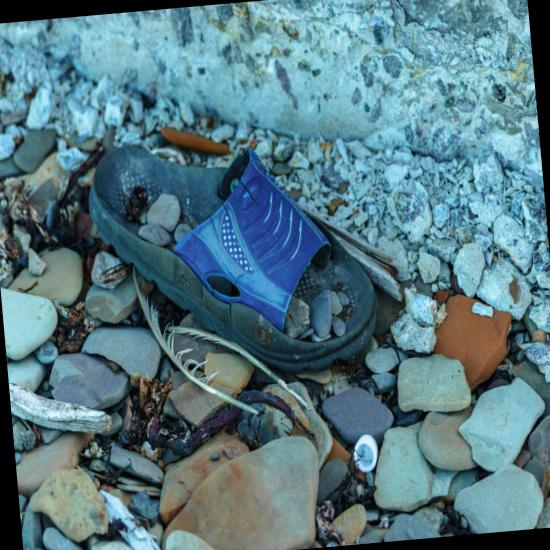Cigarette: (395, 109, 442, 161)
Metal bottle cap: (398, 344, 445, 411)
Other plastic bottle: (337, 368, 349, 391), (431, 331, 442, 345), (328, 445, 336, 462), (381, 444, 388, 463), (342, 462, 348, 481), (302, 541, 316, 549), (522, 148, 529, 162), (528, 156, 533, 173), (372, 112, 384, 119), (379, 475, 387, 485), (286, 345, 293, 356), (275, 457, 282, 468), (285, 304, 291, 316), (292, 442, 299, 452), (271, 419, 284, 424), (451, 417, 456, 430), (520, 318, 525, 322), (261, 240, 267, 243)
Unlabeled litter: (513, 264, 533, 293)
